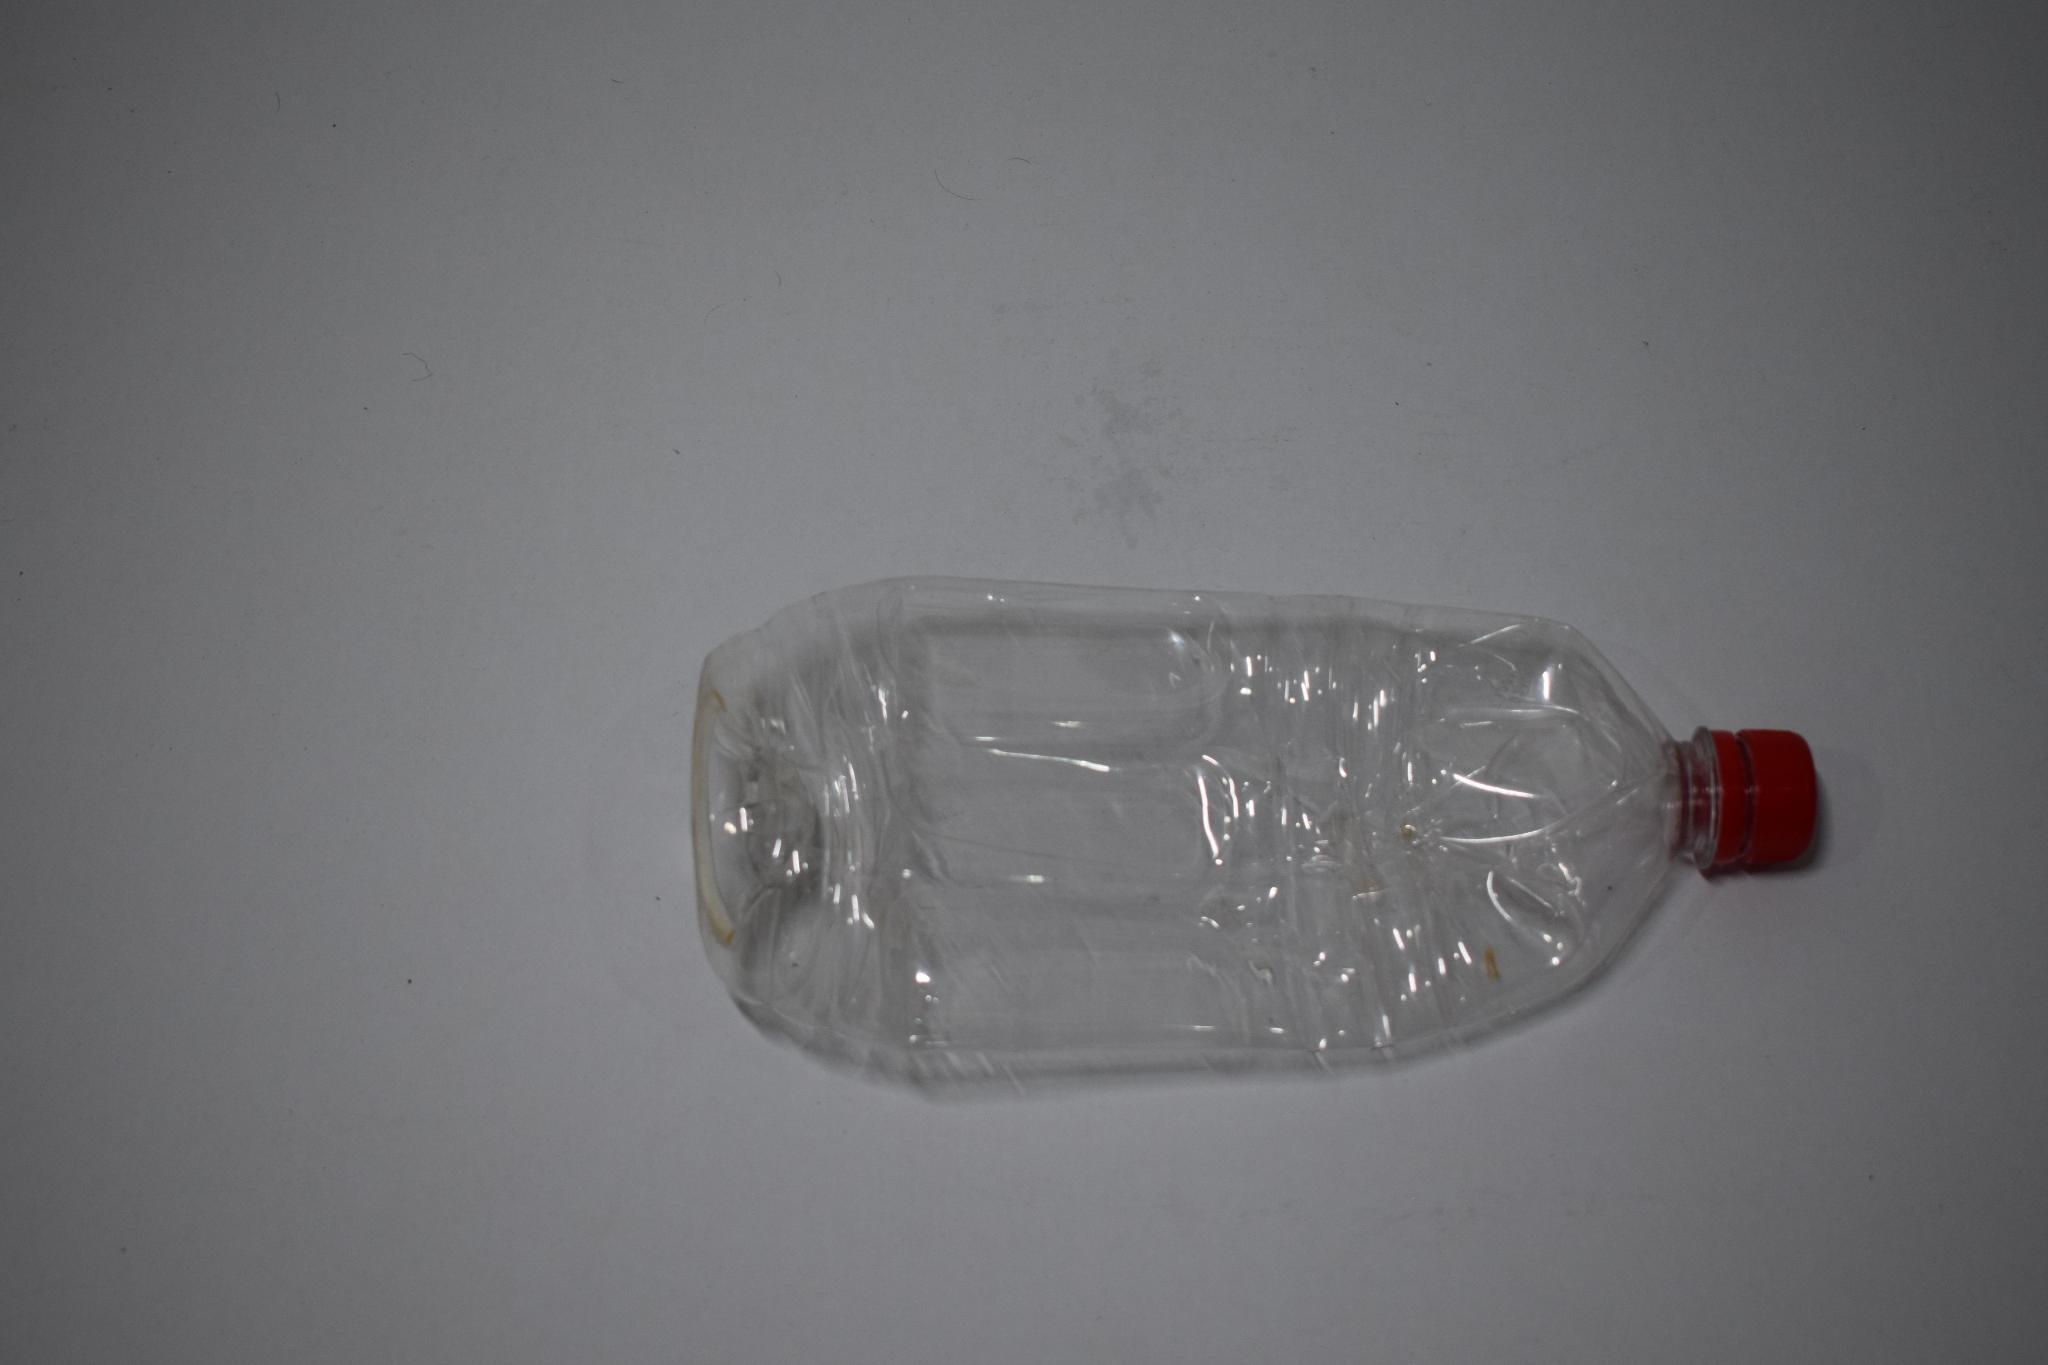bottle: (662, 573, 1849, 1094)
